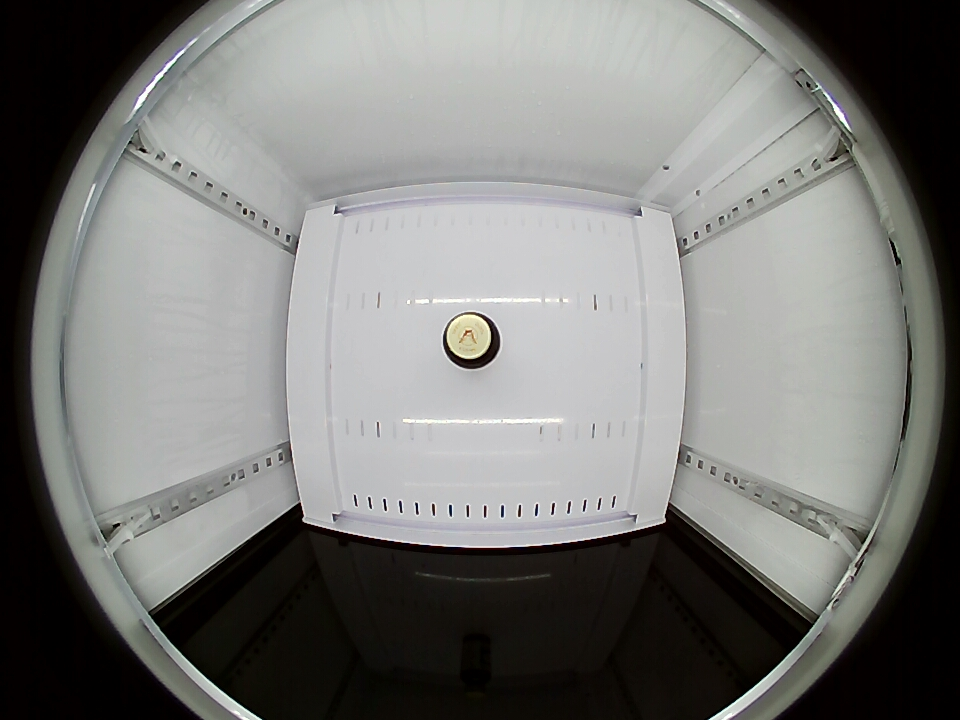libaojian: (442, 312, 503, 370)
